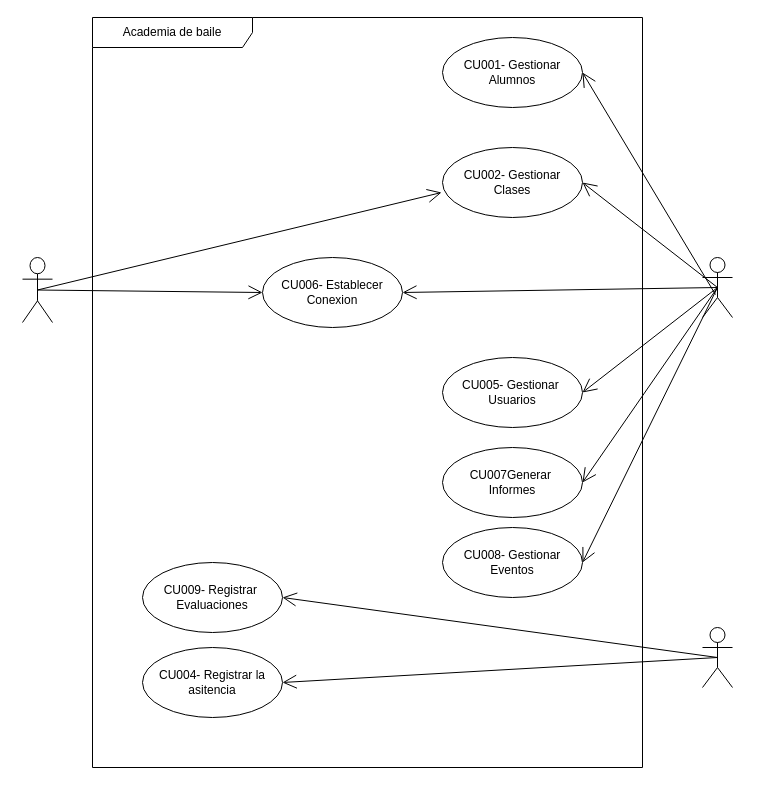
This 772x785 diagram has some shape labels left out. The centre of each missing label's shape, as x and y in pixels:
Administrador: point (717, 287)
Instructor: point (717, 657)
Usuario: point (37, 289)
